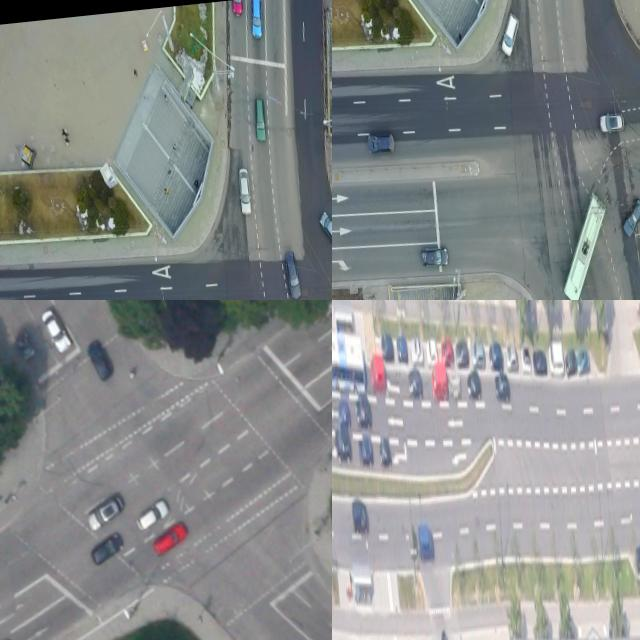UAI: (82, 492, 127, 533), (37, 304, 73, 355), (148, 519, 190, 558), (132, 498, 170, 534), (87, 531, 125, 566), (83, 339, 113, 383), (497, 11, 523, 58), (282, 248, 302, 300), (619, 197, 640, 237), (237, 167, 253, 215), (366, 131, 396, 156), (334, 425, 353, 463), (598, 110, 626, 135), (419, 246, 449, 269), (14, 330, 36, 361), (247, 0, 264, 39), (253, 98, 268, 142), (430, 365, 448, 400), (351, 499, 369, 533), (547, 341, 564, 376), (357, 433, 374, 467), (354, 397, 372, 428), (317, 209, 332, 245), (493, 371, 510, 401), (465, 370, 481, 401), (407, 369, 422, 399), (488, 342, 503, 372), (470, 339, 485, 369), (531, 348, 547, 376), (338, 399, 352, 429), (454, 339, 469, 367), (409, 336, 423, 365), (380, 332, 394, 361), (575, 347, 590, 374), (378, 440, 392, 468), (440, 339, 454, 366), (425, 339, 438, 367), (396, 334, 408, 363), (448, 372, 461, 398), (564, 349, 577, 375), (407, 528, 418, 557), (505, 347, 518, 370), (520, 347, 531, 373), (634, 545, 640, 573)
car: (553, 190, 616, 300), (332, 325, 366, 395)
harvester: (368, 353, 387, 394), (416, 523, 435, 563)
